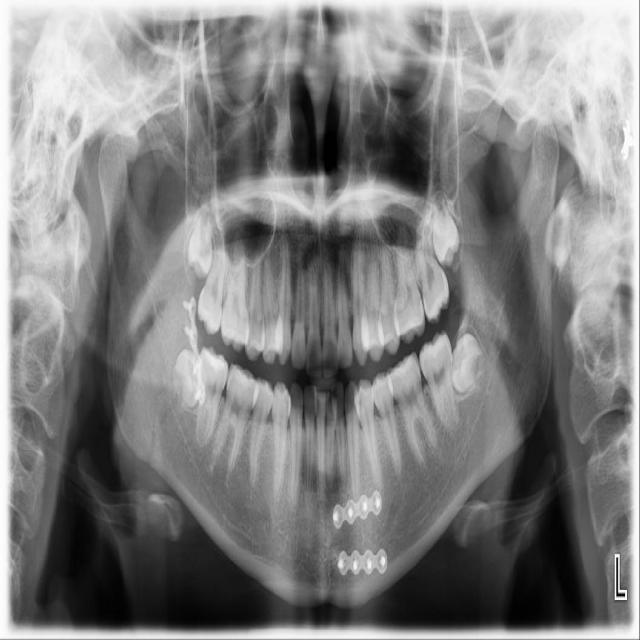3M ESPE Implant: (188, 206, 213, 280)
73: (618, 608, 627, 622)
BioHorizons Implant: (413, 220, 453, 325)
BioLife Implant: (431, 191, 460, 269)
Biomet 3i Implant: (447, 332, 489, 395)
Blue Sky Bio Implant: (416, 329, 460, 432)
Caries: (195, 220, 230, 337)
Implant: (193, 344, 230, 447)
Keystone Dental Implant: (167, 348, 202, 409)
